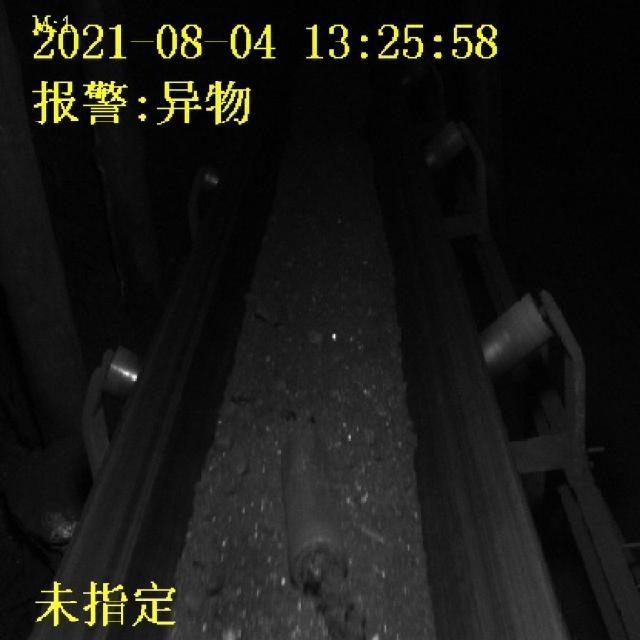bolt: (277, 409, 352, 588)
